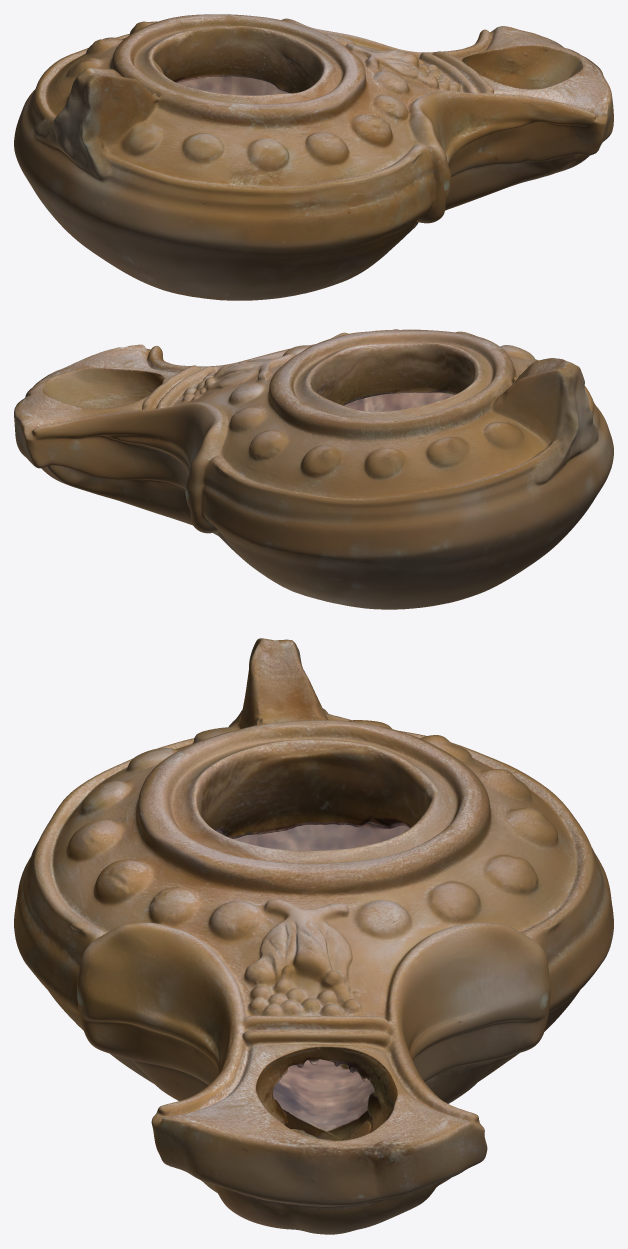
Rendered from o32_toprak_kandil.glb.
The picture shows the model from 3 angles, top to bottom: view 1: azimuth 30°, elevation 25°; view 2: azimuth 150°, elevation 25°; view 3: azimuth 270°, elevation 25°; orthographic projection. The views are drawn at different scales.
Size of the model in its own units: 1.9 by 0.7234 by 1.33.
1 material, 1 textured.
